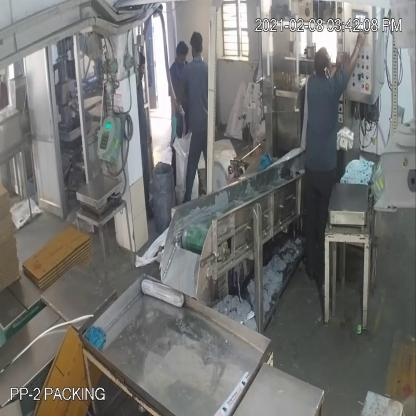no_glove: (338, 29, 371, 88)
